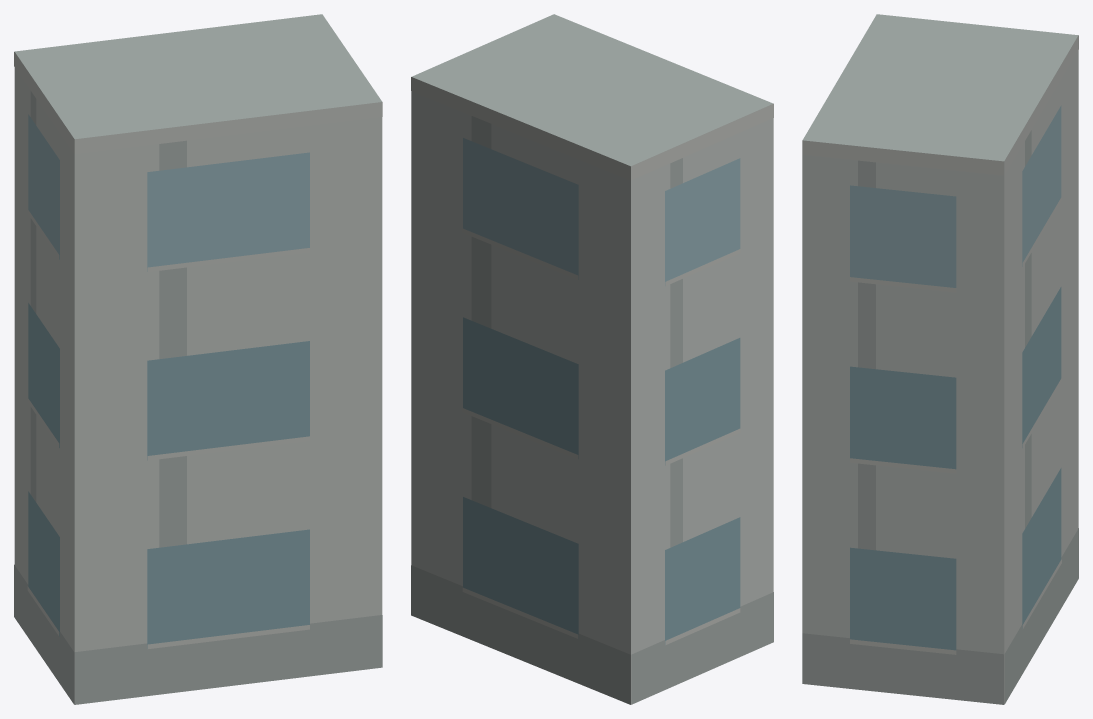
File: survey-upis-33007485.glb
The picture shows the model from 3 angles, left to right: view 1: azimuth 30°, elevation 25°; view 2: azimuth 150°, elevation 25°; view 3: azimuth 270°, elevation 25°; orthographic projection. The views are drawn at different scales.
Parts seen in each view (by area): view 1: survey-upis-33007485.tmp; view 2: survey-upis-33007485.tmp; view 3: survey-upis-33007485.tmp.
Part boxes in pixels (box(x1,y1,x2,y2)): survey-upis-33007485.tmp: box(14, 14, 382, 704); survey-upis-33007485.tmp: box(411, 14, 773, 704); survey-upis-33007485.tmp: box(802, 14, 1078, 704).
Size of the model in its own units: 5.33 by 9.15 by 4.22.
